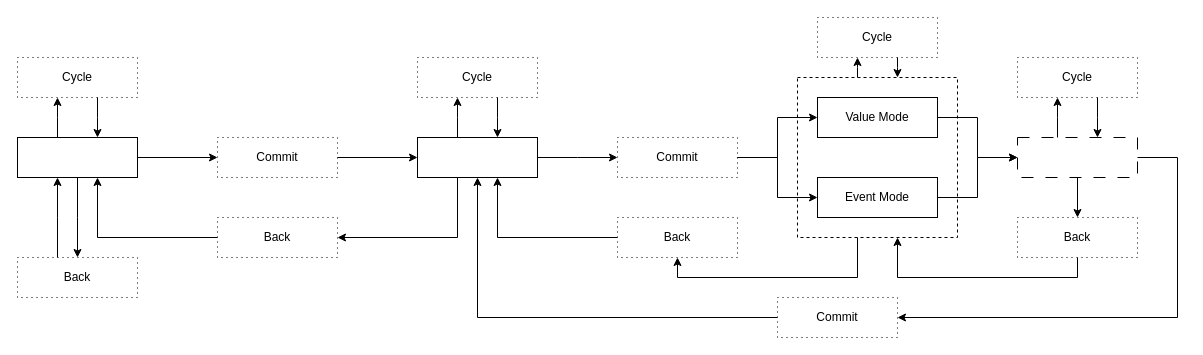
This 1203x355 diagram has some shape labels left out. The shapes that lost their labels are listed below. From the top down, each one's centre as x and y in pixels, then its label:
At (77,157): "Home".
At (477,157): "Action Selection".
At (1077,157): "Reports".
